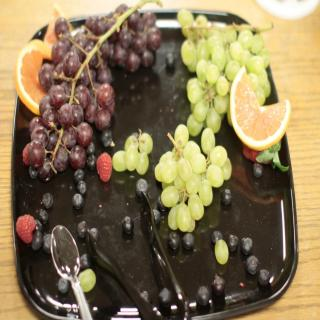Grape: (153, 9, 270, 228), (26, 3, 162, 170), (78, 266, 96, 292), (215, 239, 228, 265), (112, 150, 126, 172), (125, 146, 137, 169), (136, 153, 148, 175), (139, 134, 153, 151), (125, 134, 136, 148)
